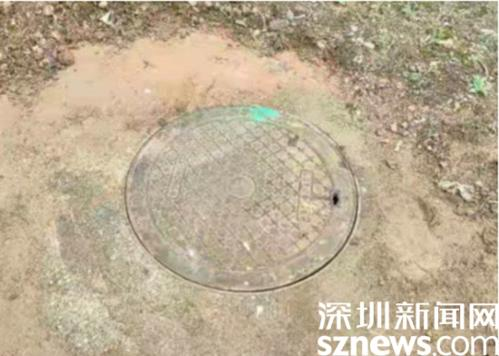good: (115, 95, 370, 299)
